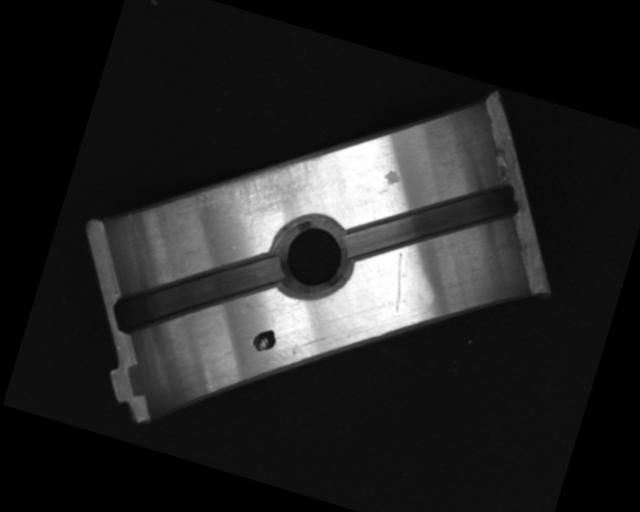blot: (249, 324, 280, 357)
bruise: (381, 166, 403, 188)
gap: (339, 143, 524, 302), (109, 215, 290, 371)
hole: (259, 204, 365, 311)
nick: (382, 252, 416, 314)
scratch: (177, 116, 328, 246)
